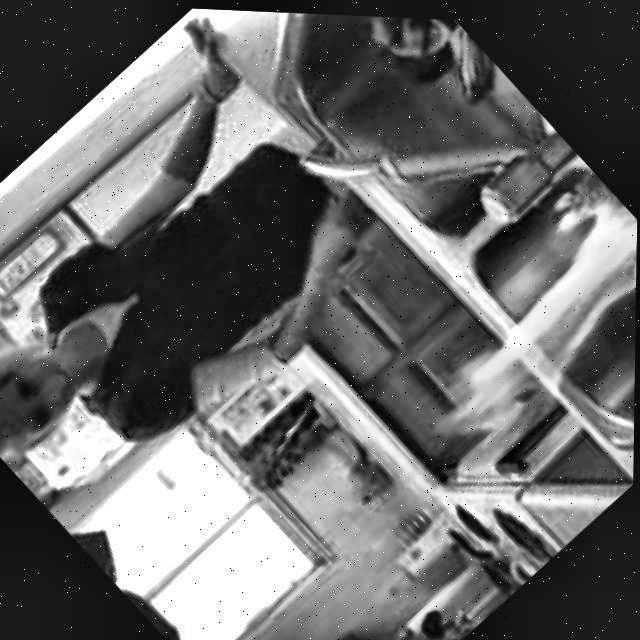Fire: (385, 167, 638, 477)
